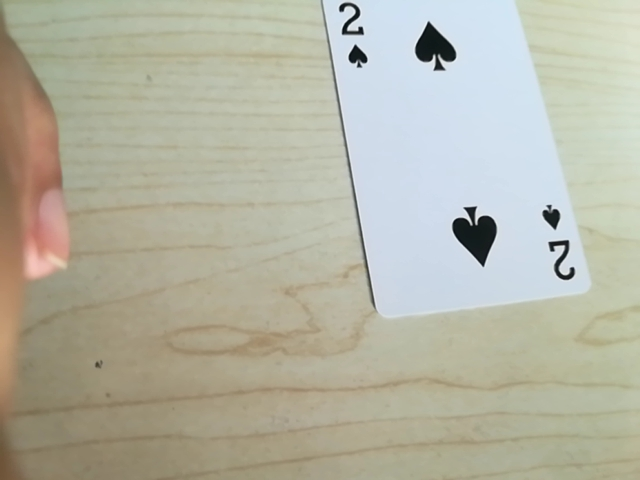ht 2: (329, 0, 378, 80), (537, 192, 576, 288)
